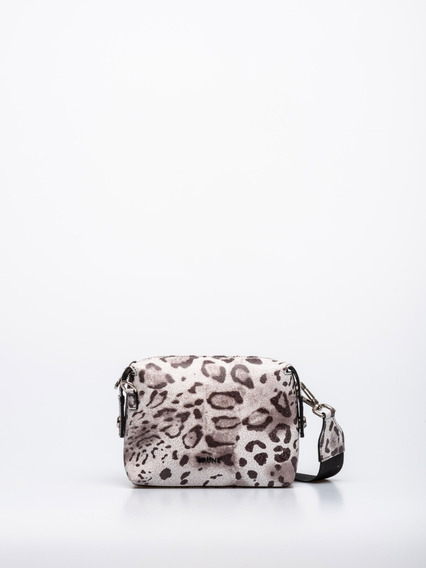cartera: (116, 354, 346, 489)
